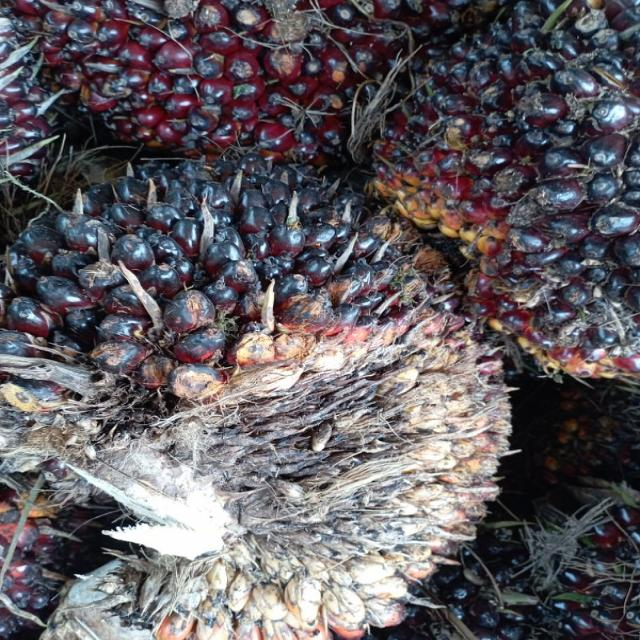fraksi 00: (0, 156, 500, 632), (353, 0, 627, 393)
fraksi 1: (27, 0, 480, 169)
